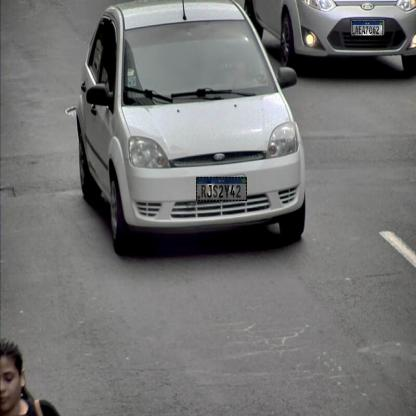PlacaM: (196, 177, 247, 201), (352, 21, 383, 36)
